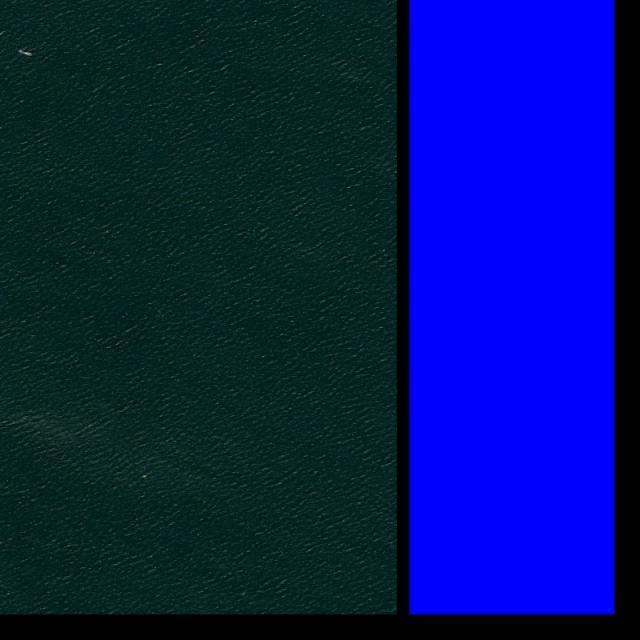ship: (17, 49, 34, 58)
